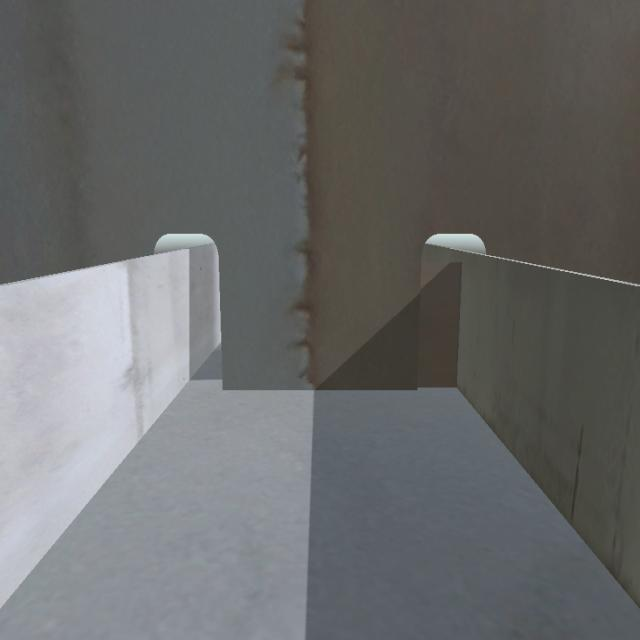fillet_yong_jeop_jang: (224, 383, 458, 402)
longi_yong_jeop_jang: (450, 261, 467, 380)
plate_behind: (417, 259, 461, 387)
